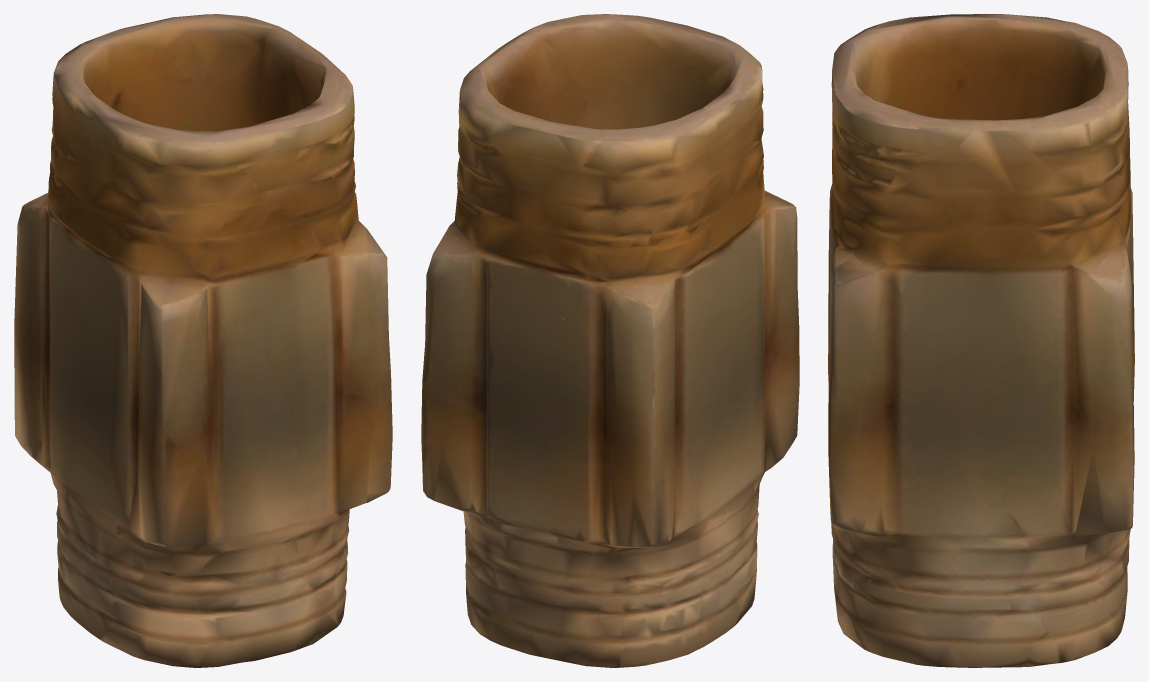
The model's file is fuhao-cord-overview.glb.
3 views of the same model, side by side, from view 1: azimuth 30°, elevation 25°; view 2: azimuth 150°, elevation 25°; view 3: azimuth 270°, elevation 25° (orthographic). The views are drawn at different scales.
Parts seen in each view (by area): view 1: node_0; view 2: node_0; view 3: node_0.
Part boxes in pixels (bbox=[...]): node_0: bbox=[14, 14, 392, 667]; node_0: bbox=[421, 14, 799, 667]; node_0: bbox=[828, 14, 1134, 667].
Bounding box in the file's own units: 0.4999 × 1.08 × 0.5462.
1 material, 1 textured.
